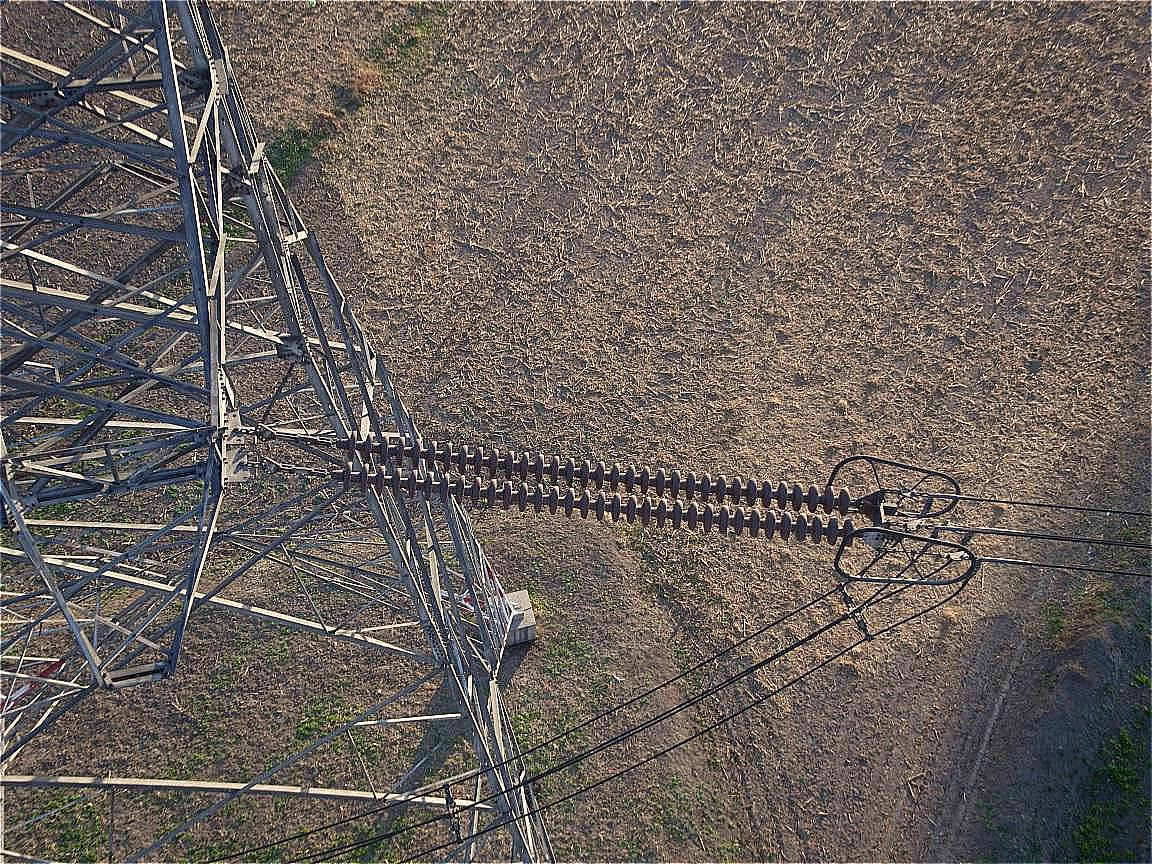insultor1: (339, 429, 857, 548)
